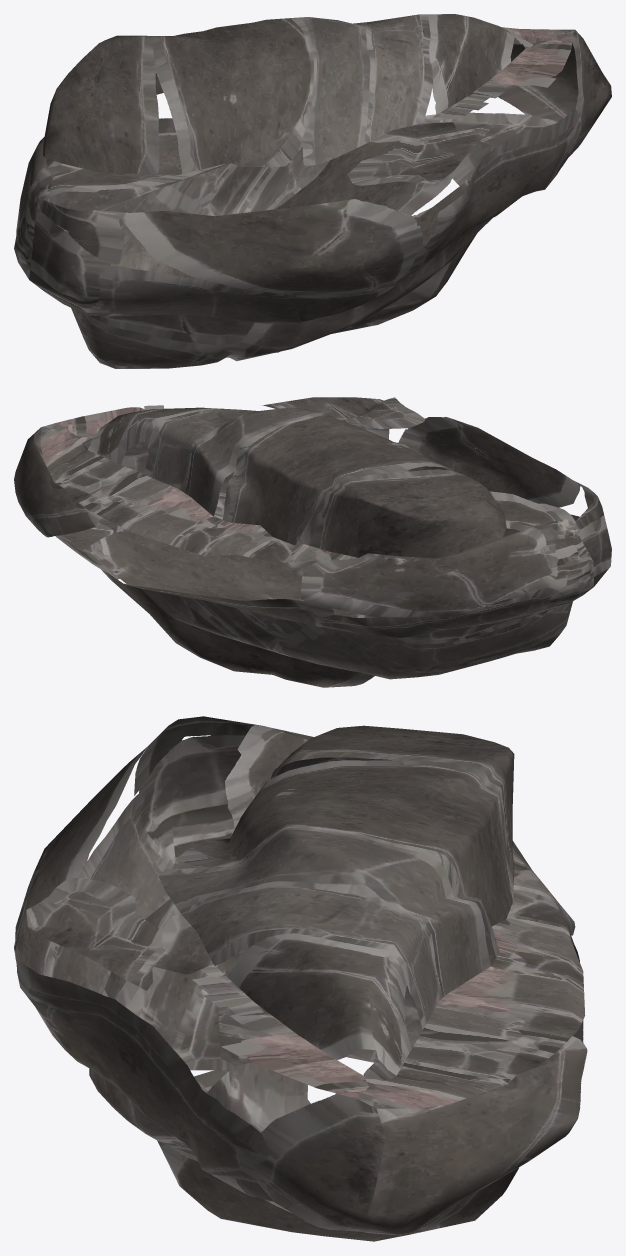
The picture shows the model from 3 angles, top to bottom: view 1: azimuth 30°, elevation 25°; view 2: azimuth 150°, elevation 25°; view 3: azimuth 270°, elevation 25°; orthographic projection. The views are drawn at different scales.
Visible parts, largest first — view 1: SM_Mining_Node_Medium_Coal_02_LOD0; view 2: SM_Mining_Node_Medium_Coal_02_LOD0; view 3: SM_Mining_Node_Medium_Coal_02_LOD0.
Boxes of the visible parts, x1,y1,x2,y2 form: SM_Mining_Node_Medium_Coal_02_LOD0: (14,14,611,368); SM_Mining_Node_Medium_Coal_02_LOD0: (14,397,611,687); SM_Mining_Node_Medium_Coal_02_LOD0: (14,716,587,1241).
Size of the model in its own units: 3.55 by 1.49 by 2.16.
